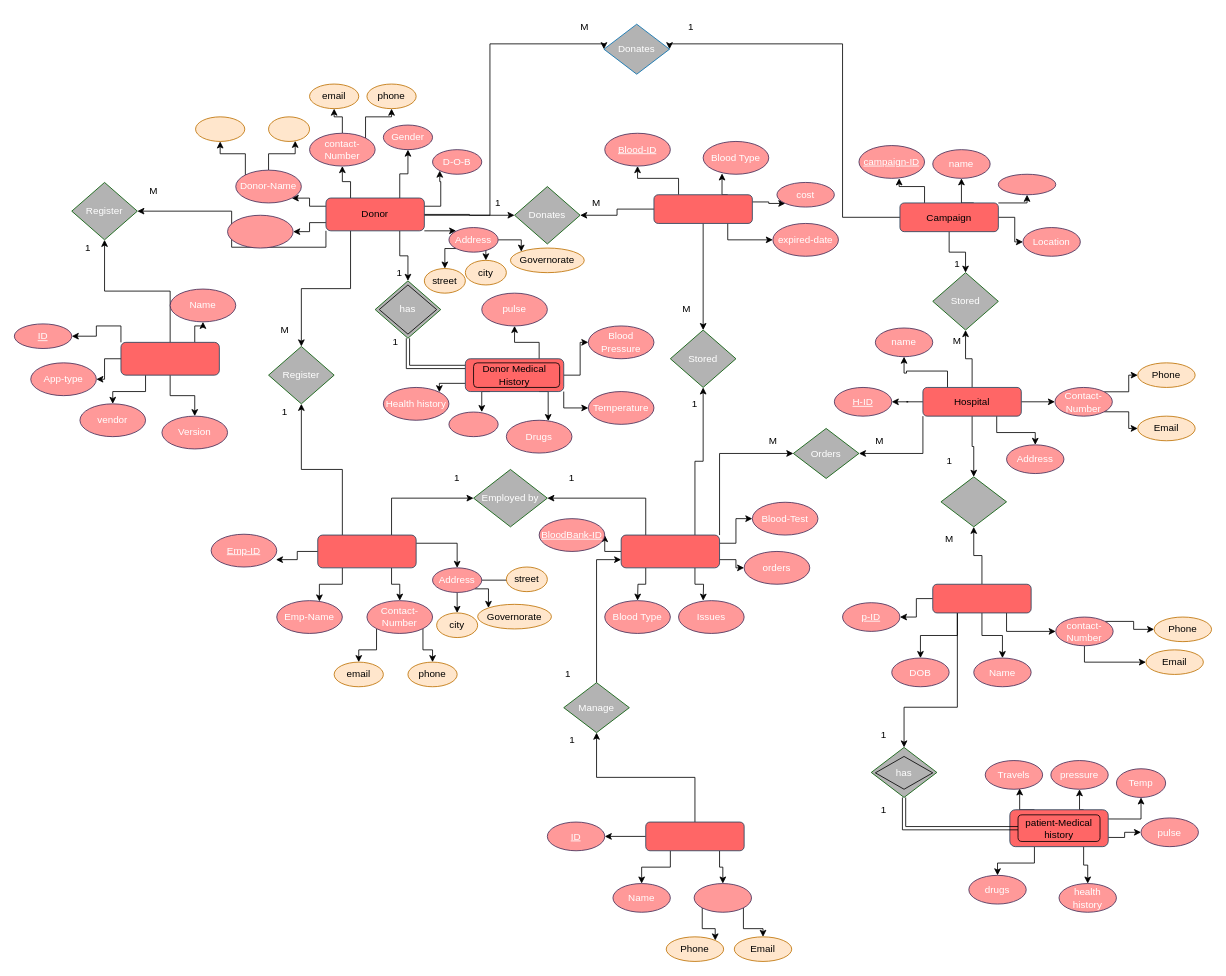
This 1226x976 diagram has some shape labels left out. Each missing label, with the centre of its shape:
Blood: the point at 702,208
Blood Bank: the point at 670,551
blood Bank manager: the point at 694,836
contact Number: the point at 722,897
Date: the point at 1027,184
Delivers: the point at 973,501
Donor-ID: the point at 260,231
F-name: the point at 220,128
L-name: the point at 289,128
patient: the point at 981,598
platform: the point at 169,358
Receptionist: the point at 366,551
Travel: the point at 473,424
